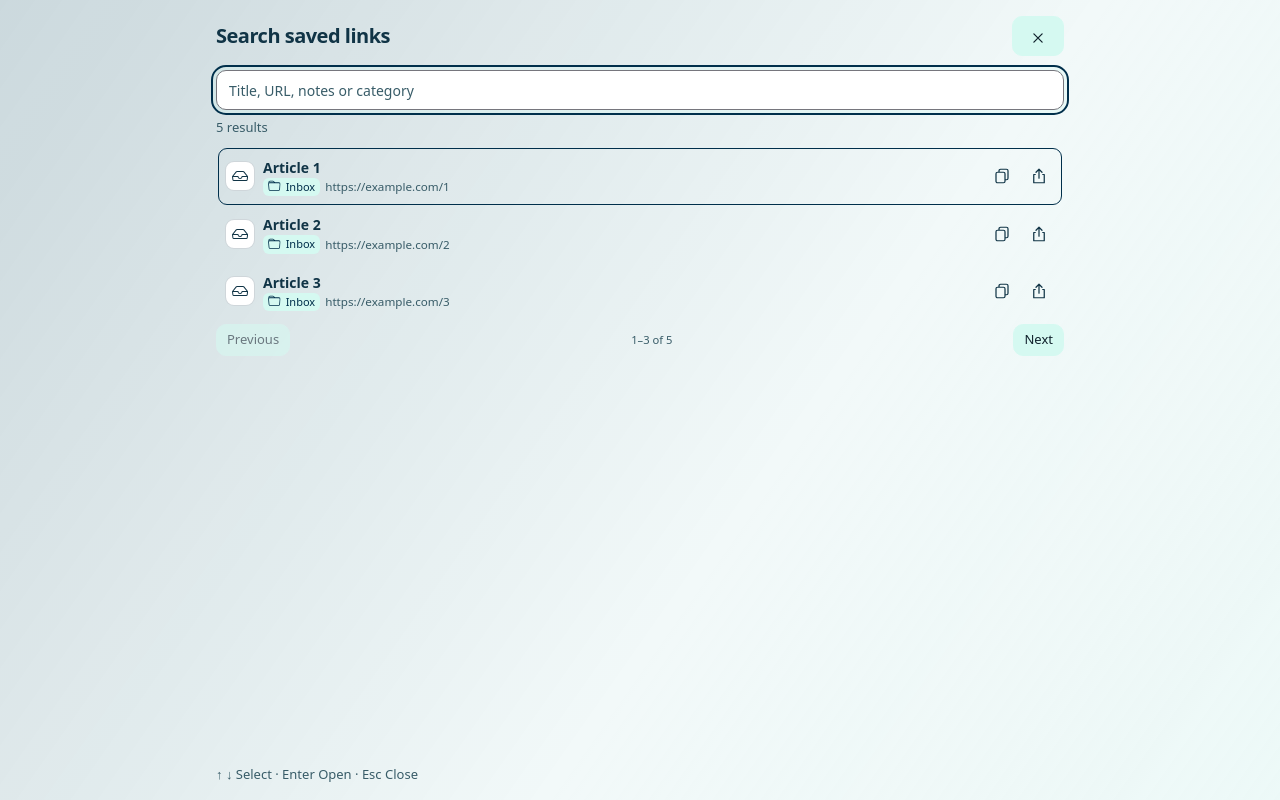
Test case: pages results without scrolling and lets ArrowDown cross a page boundary
The image size is (1280, 800).
Expected: the button with aria-label "Open Article 1" is shown, left=225, top=152, right=980, bottom=200
Press ArrowDown in the dropdown, box left=216, top=70, right=1064, bottom=110
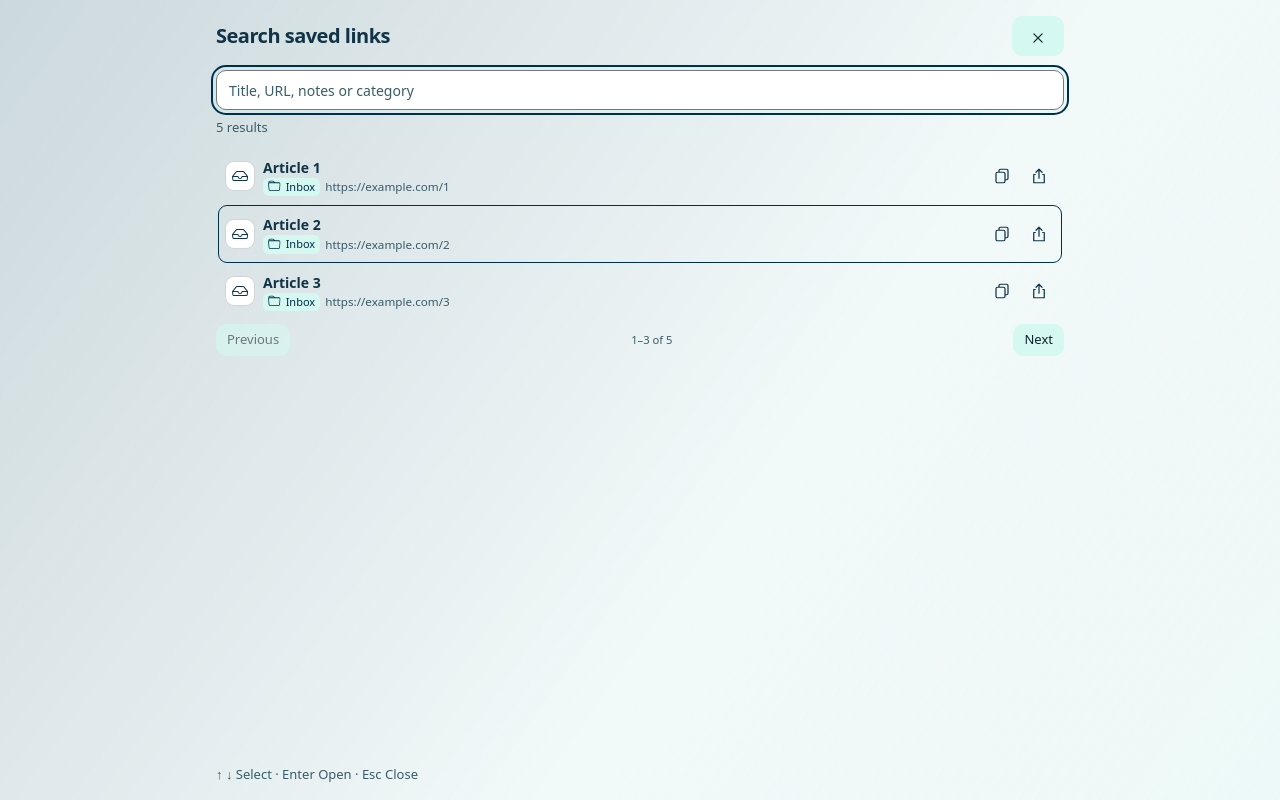
Press ArrowDown in the dropdown, box left=216, top=70, right=1064, bottom=110
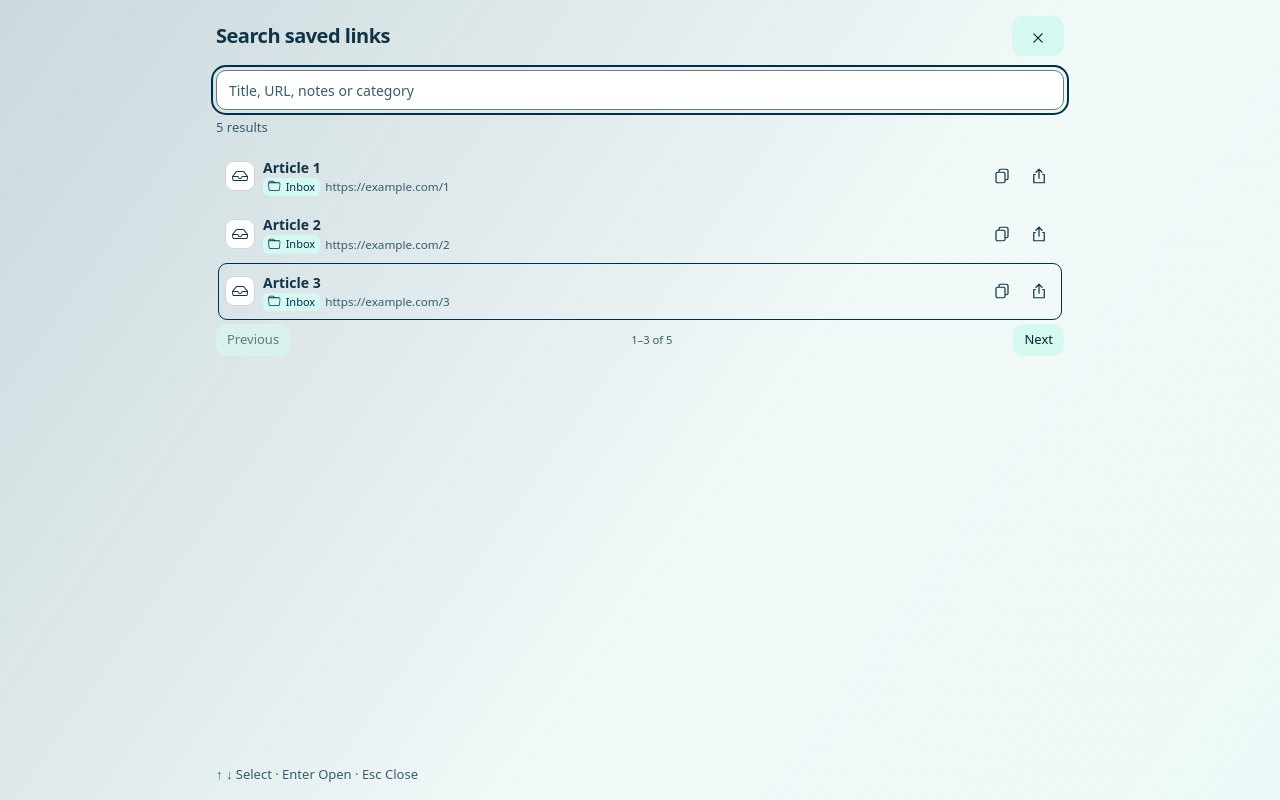
Press ArrowDown in the dropdown, box left=216, top=70, right=1064, bottom=110
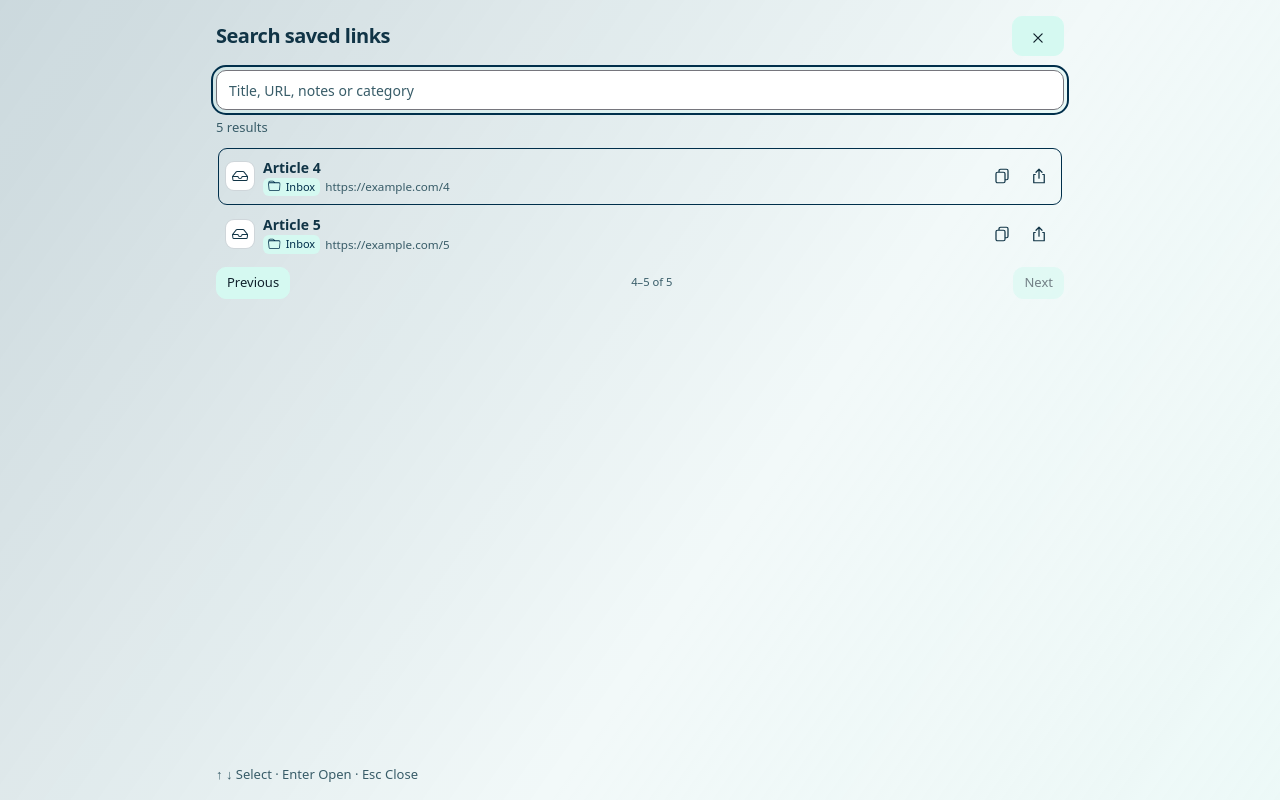
Now the button with aria-label "Open Article 4" is shown, box left=225, top=152, right=980, bottom=200
Click the button with aria-label "Previous results" at (253, 282), box left=216, top=266, right=290, bottom=298
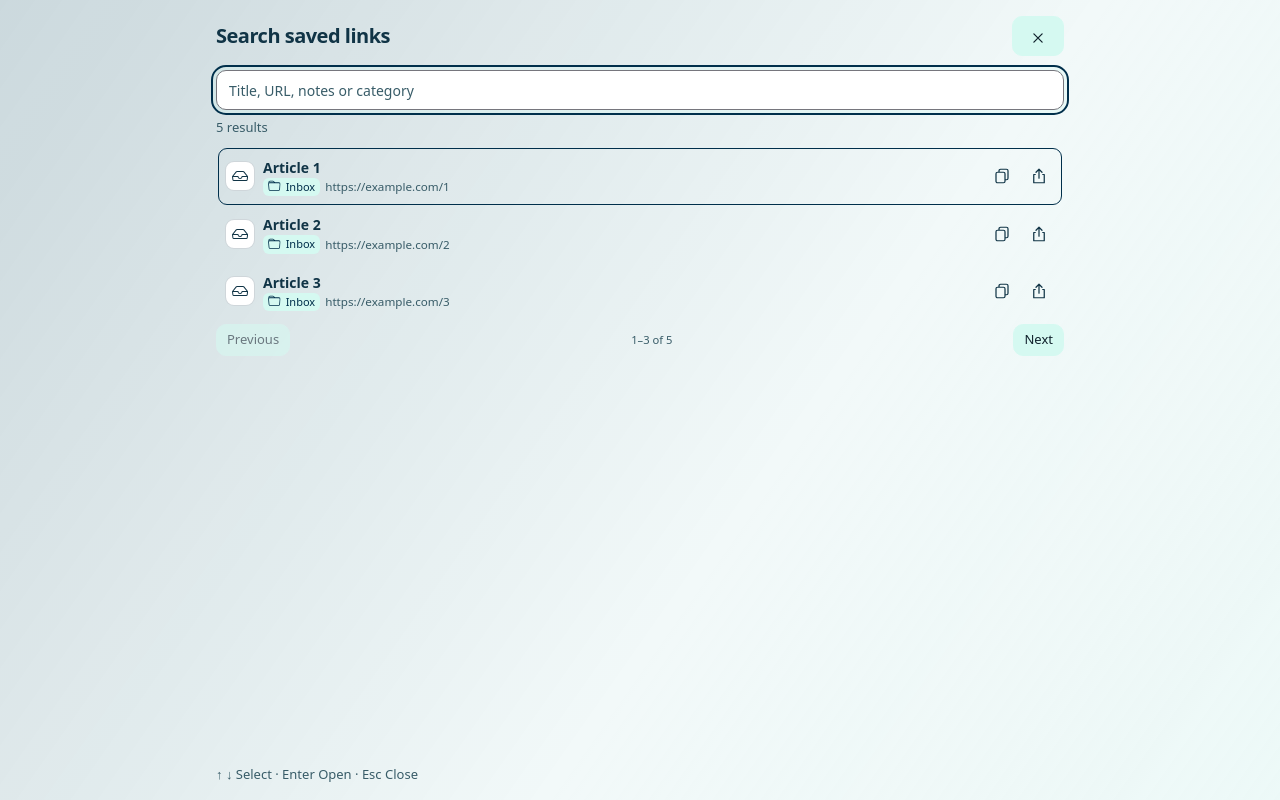
Now the button with aria-label "Open Article 1" is shown, box left=225, top=152, right=980, bottom=200
